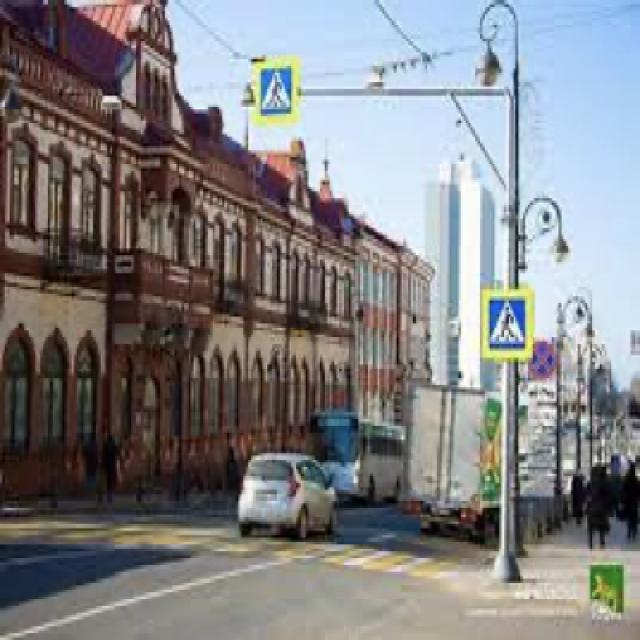crosswalk: (486, 296, 525, 349), (258, 66, 288, 112)
